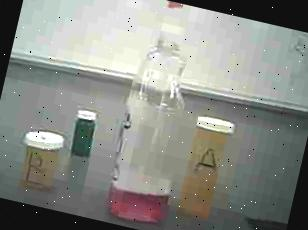Bottle A: (171, 114, 236, 228)
Bottle B: (12, 127, 67, 194)
Bottle C: (65, 106, 103, 163)
hazard: (92, 0, 217, 229)
